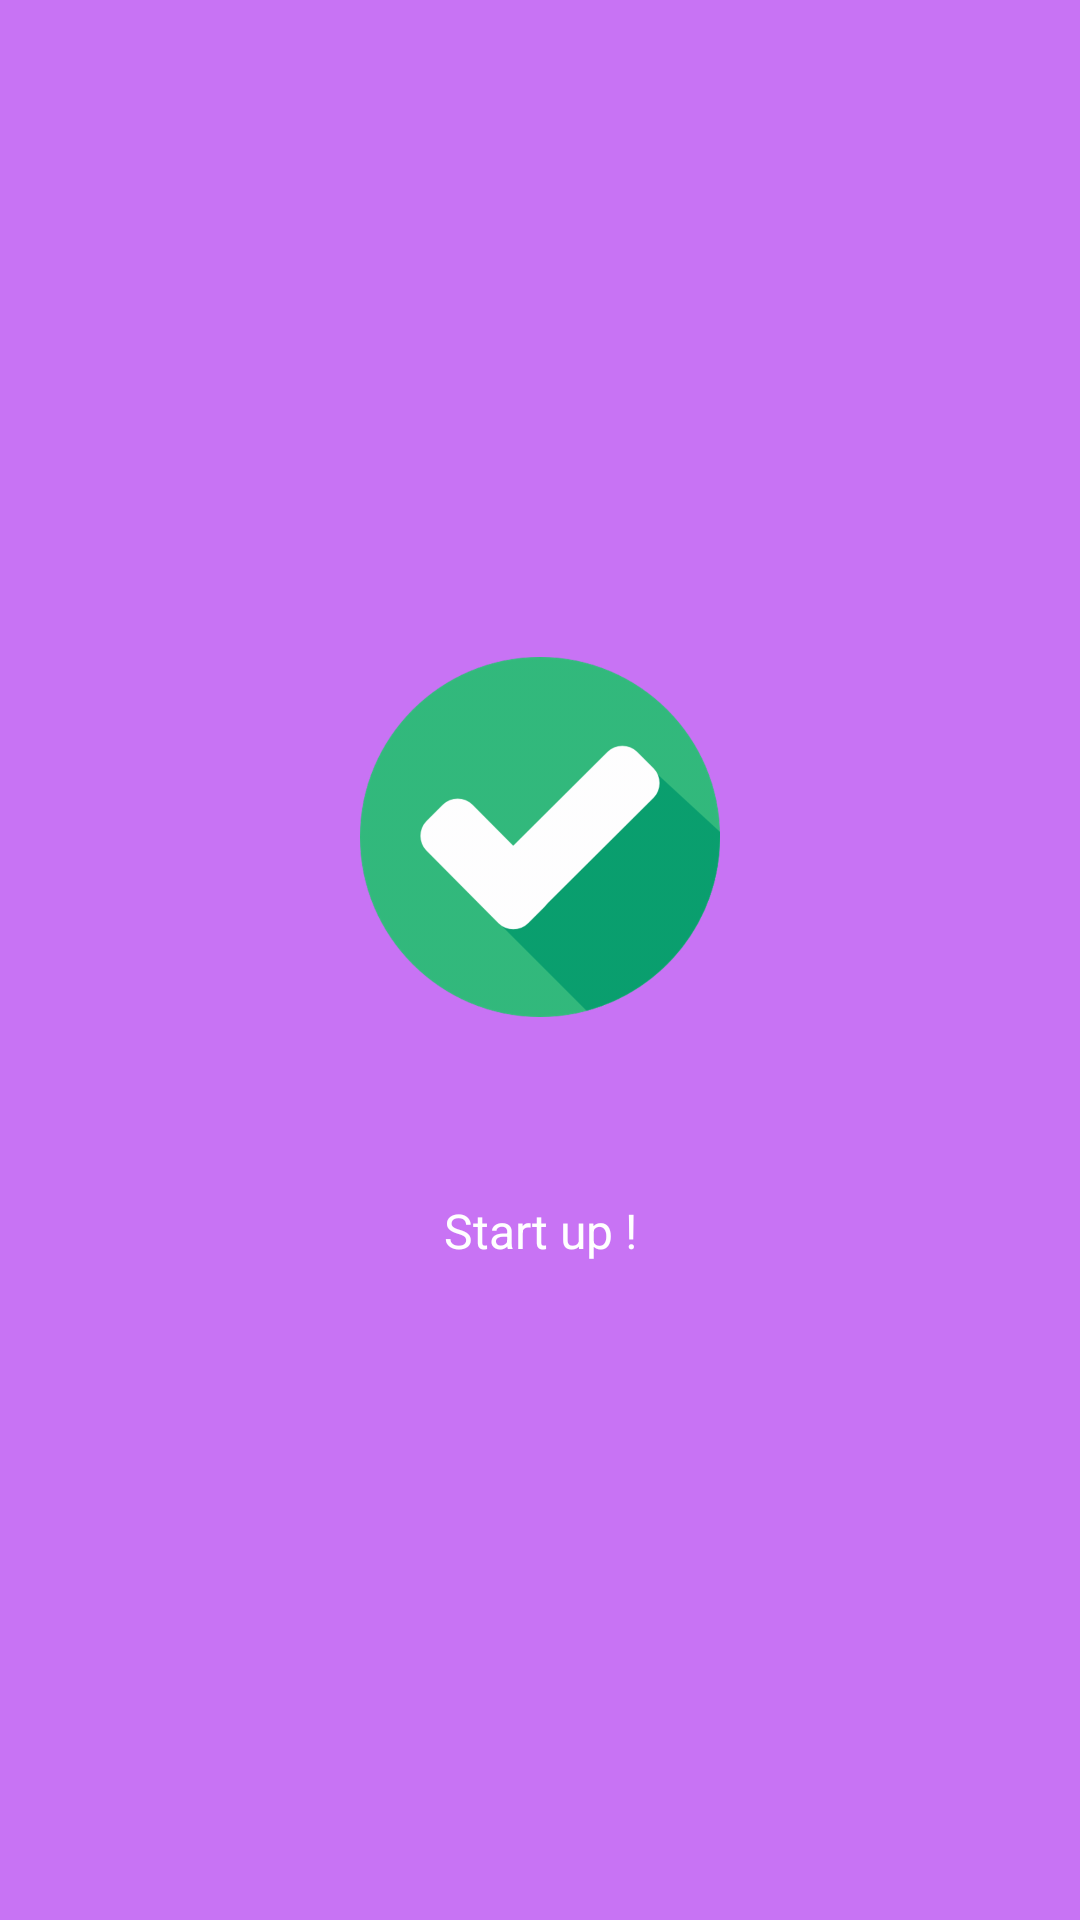

Icon click points for this 1080×1920 phone screenshot, format point (x, y):
check intro: point (540, 837)
